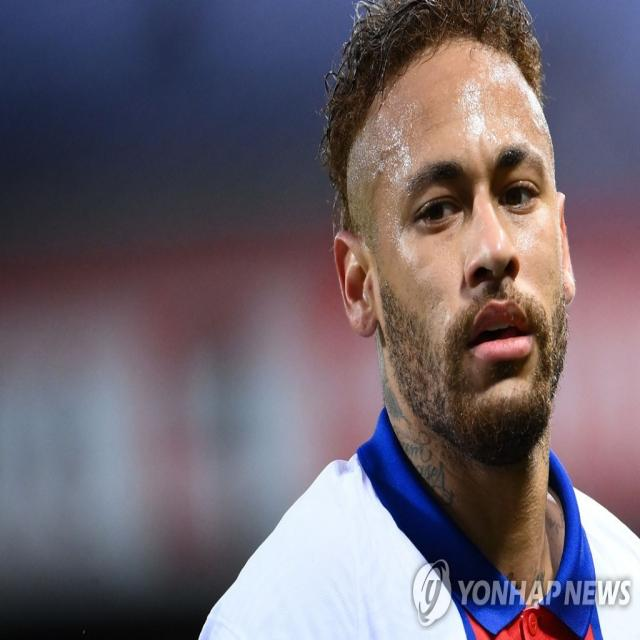neymar: (328, 4, 579, 446)
